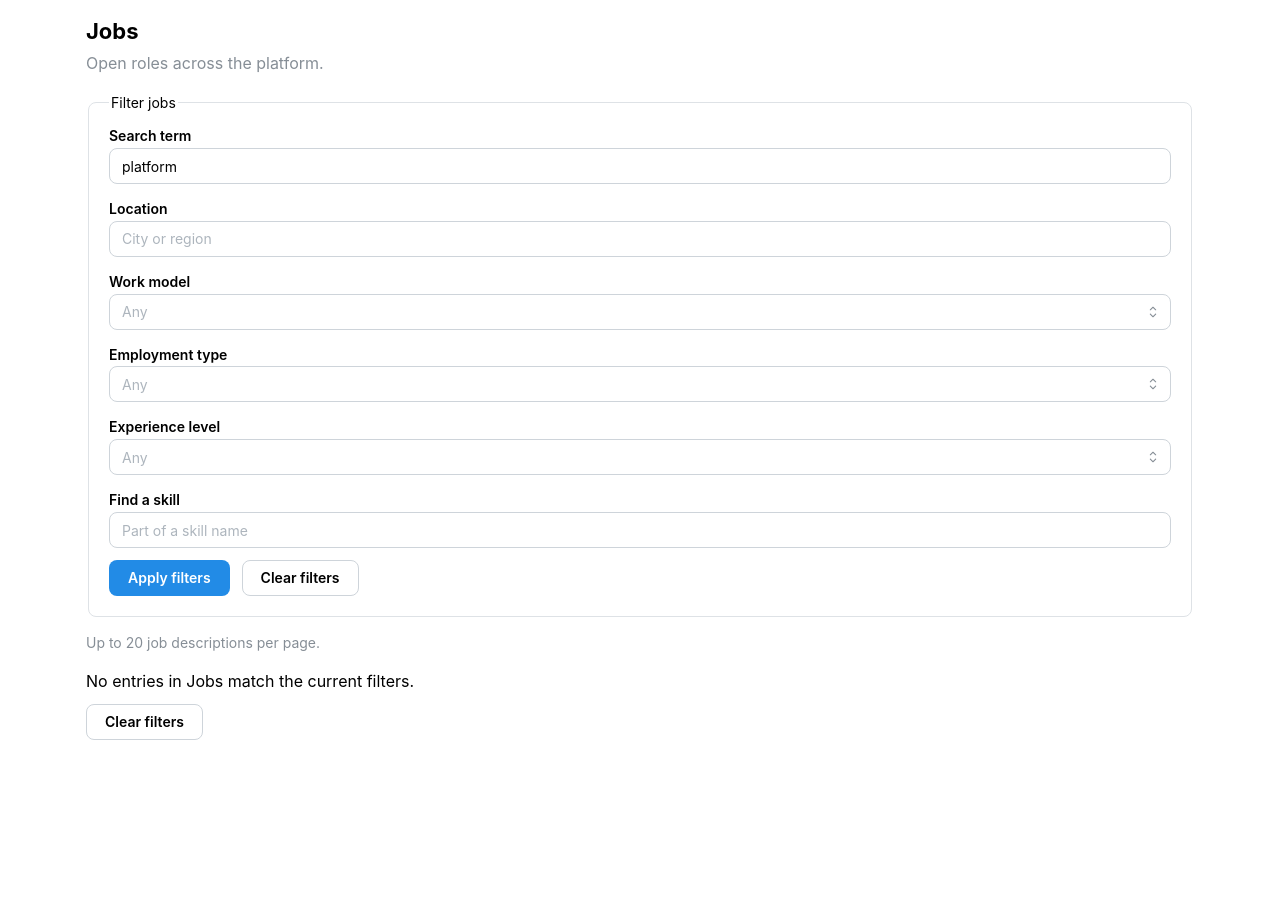
Scenario: the empty state (Req 12 AC5) › clears the filters from the empty state and the controls together
This screenshot has width=1280, height=900.
Click the button with test id "empty-state-clear-filters" at [144, 722], box [86,704,203,740]
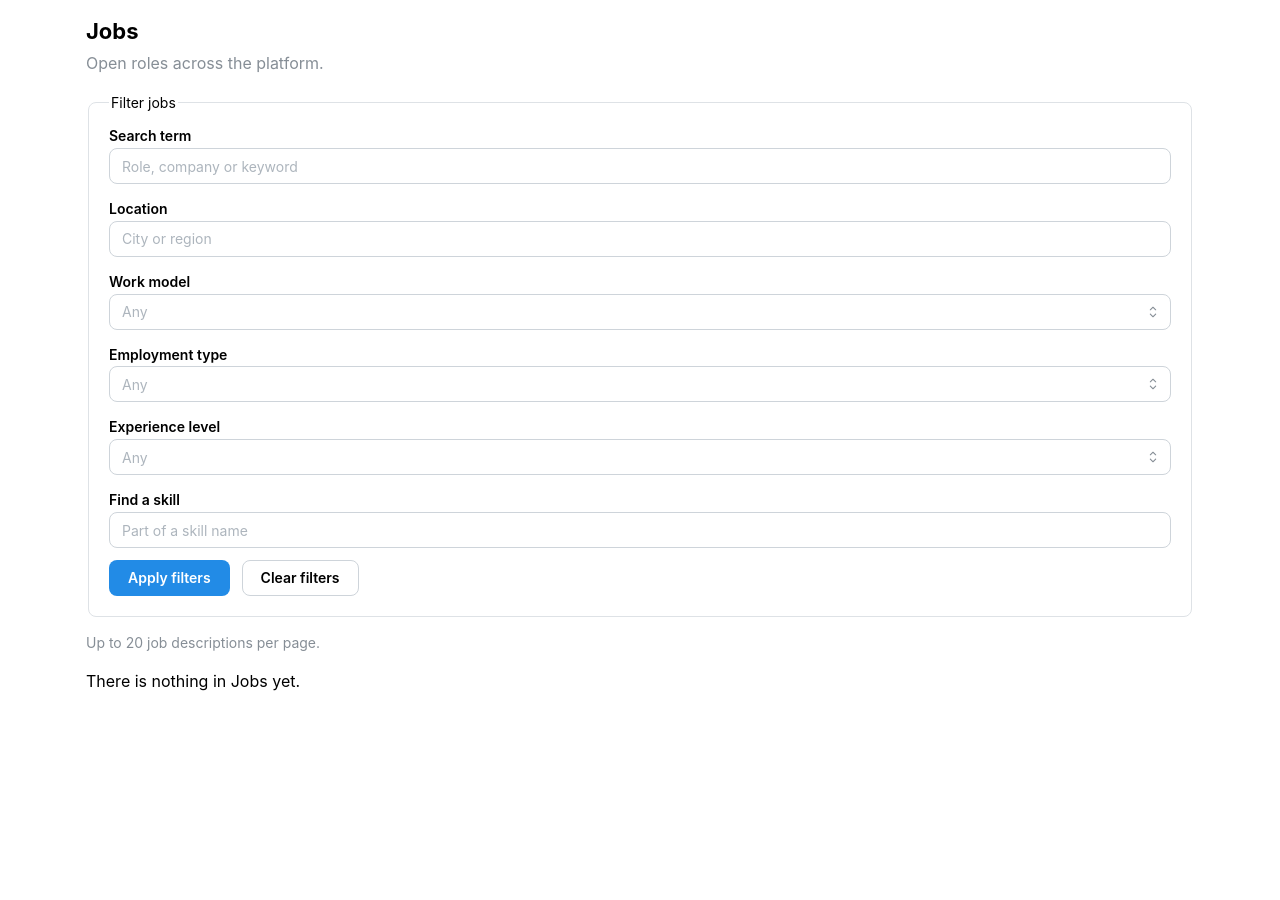
expect the field with test id "job-filter-search" is empty: met, box [109,148,1171,184]
expect the message with test id "empty-state" no longer shows "match the current filters": met, box [86,671,300,691]
